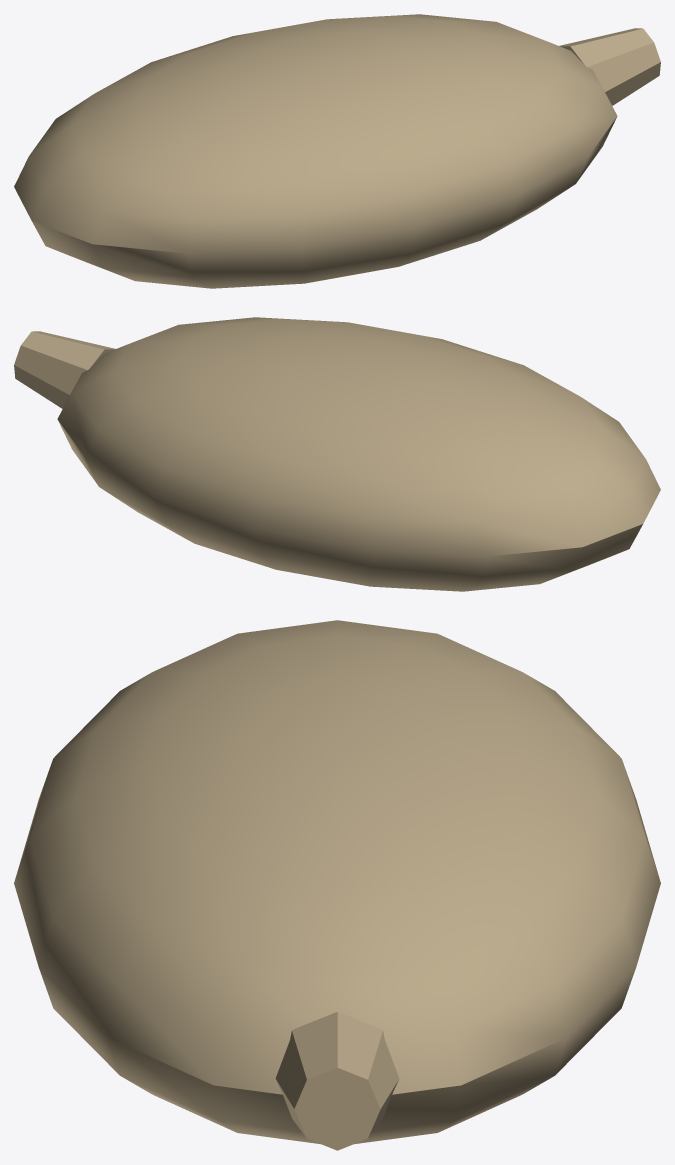
Rendered from SM_Sandbag.glb.
3 views of the same model, one above another, from view 1: azimuth 30°, elevation 25°; view 2: azimuth 150°, elevation 25°; view 3: azimuth 270°, elevation 25° (orthographic). The views are drawn at different scales.
Visible parts, largest first — view 1: SM_Sandbag; view 2: SM_Sandbag; view 3: SM_Sandbag.
Part boxes in pixels (x1,y1,x2,y2): SM_Sandbag: (14,14,660,288); SM_Sandbag: (14,317,660,591); SM_Sandbag: (14,620,660,1150).
Size of the model in its own units: 52.33 by 15 by 30.
